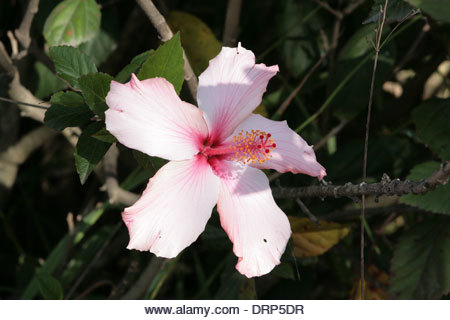Hibiscus: (102, 33, 329, 274)
